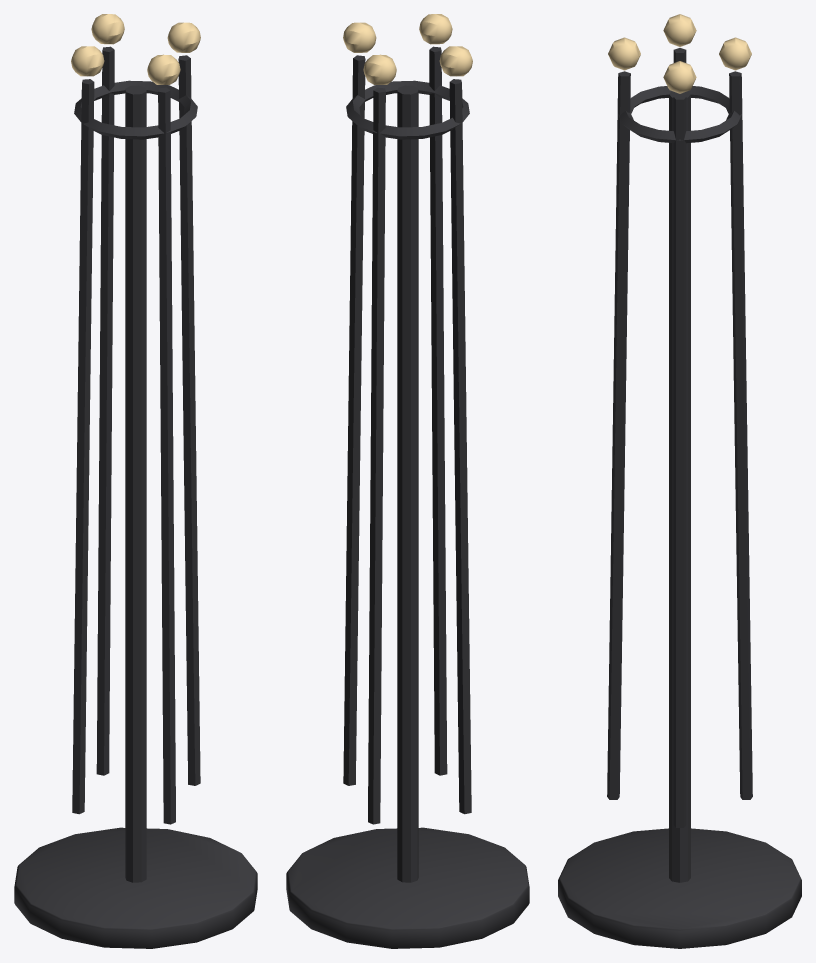
The model's file is fire_tools.glb.
3 views of the same model, side by side, from view 1: azimuth 30°, elevation 25°; view 2: azimuth 150°, elevation 25°; view 3: azimuth 270°, elevation 25° (orthographic).
Parts seen in each view (by area): view 1: Cast iron, Brass; view 2: Cast iron, Brass; view 3: Cast iron, Brass.
Part boxes in pixels (x1,y1,x2,y2): Cast iron: (14, 46, 257, 948); Brass: (71, 14, 200, 84); Cast iron: (286, 46, 529, 948); Brass: (343, 14, 472, 84); Cast iron: (558, 48, 801, 948); Brass: (608, 14, 751, 93).
Size of the model in its own units: 0.22 by 0.855 by 0.22.
